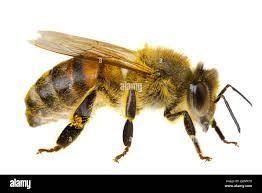Apis-mellifera-scutellata: (23, 16, 246, 173)
